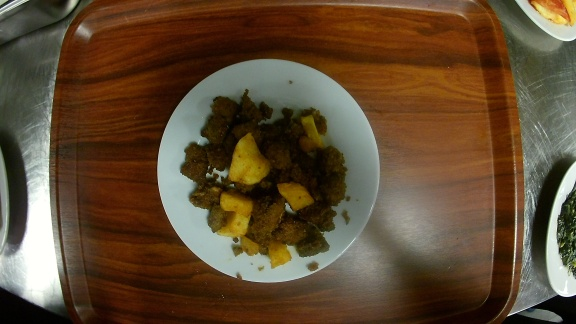arnavutcigeri: (155, 57, 381, 284)
